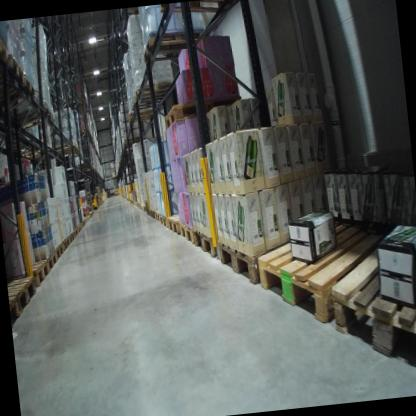pallet: (251, 195, 409, 335), (326, 226, 416, 389), (160, 90, 251, 135), (216, 231, 265, 297), (139, 24, 211, 63), (0, 71, 38, 118), (9, 99, 54, 138), (154, 0, 240, 20), (6, 272, 39, 319), (0, 55, 27, 105), (130, 77, 173, 103), (123, 104, 168, 127), (192, 225, 218, 262), (167, 209, 196, 238), (25, 257, 50, 290), (20, 141, 50, 166), (0, 25, 13, 80), (9, 290, 25, 327), (52, 136, 80, 154), (179, 221, 197, 245), (43, 247, 58, 272), (53, 241, 65, 262), (161, 210, 170, 228), (61, 235, 71, 250), (149, 207, 158, 221), (144, 195, 153, 209), (65, 232, 74, 245), (155, 209, 162, 224), (71, 226, 79, 238), (76, 223, 82, 234), (145, 209, 152, 216)
